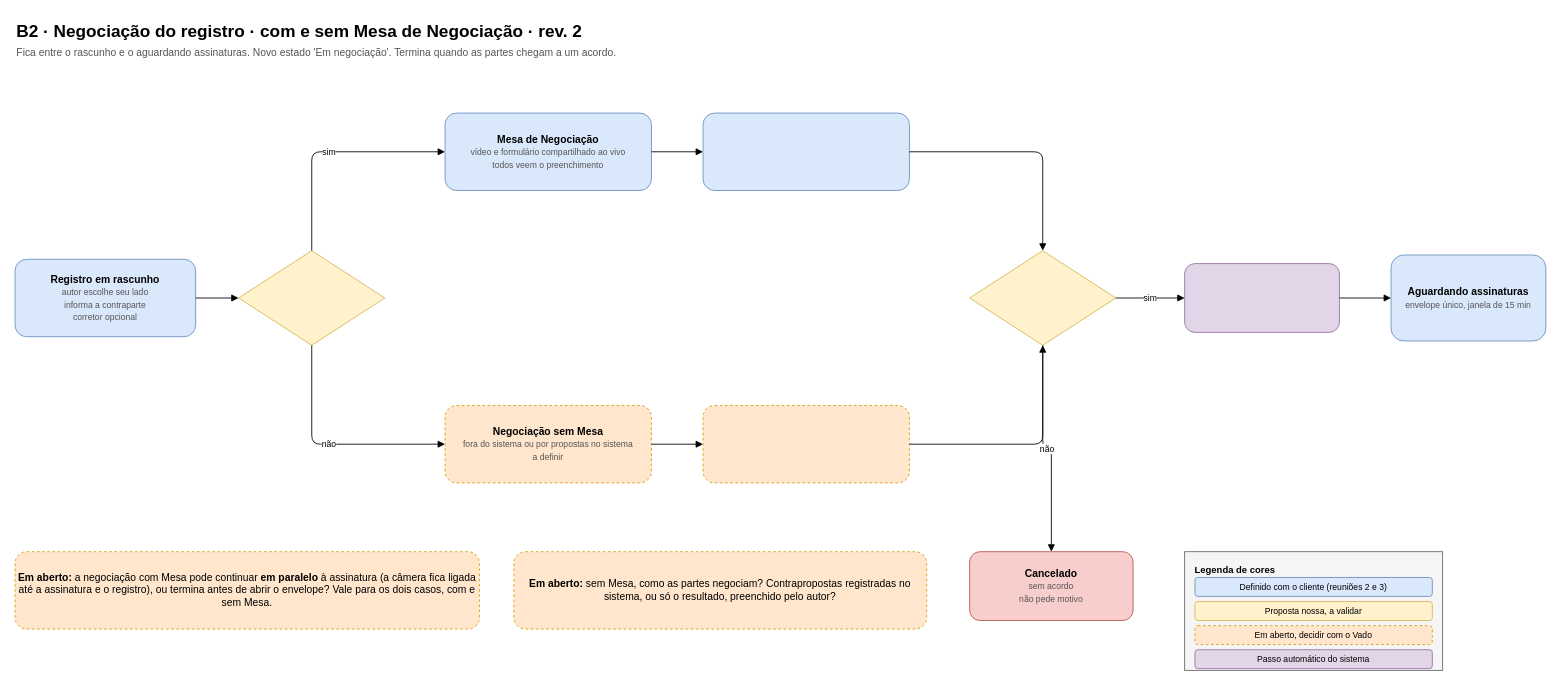
Image size: 1561x685. Some labels were removed from this diagram. The centre of each missing label's shape, as x and y in pixels:
"Autor preenche o acordado contraparte revisa: aceita ou pede ajuste a definir" belongs at [805,444].
"Houve acordo?" belongs at [1042,297].
"Partes acertam os campos quantidade, preço, prazo (mês e ano) região, armazém" belongs at [805,151].
"Pré-validação automática" belongs at [1261,297].
"Usar a Mesa?" belongs at [311,297].
